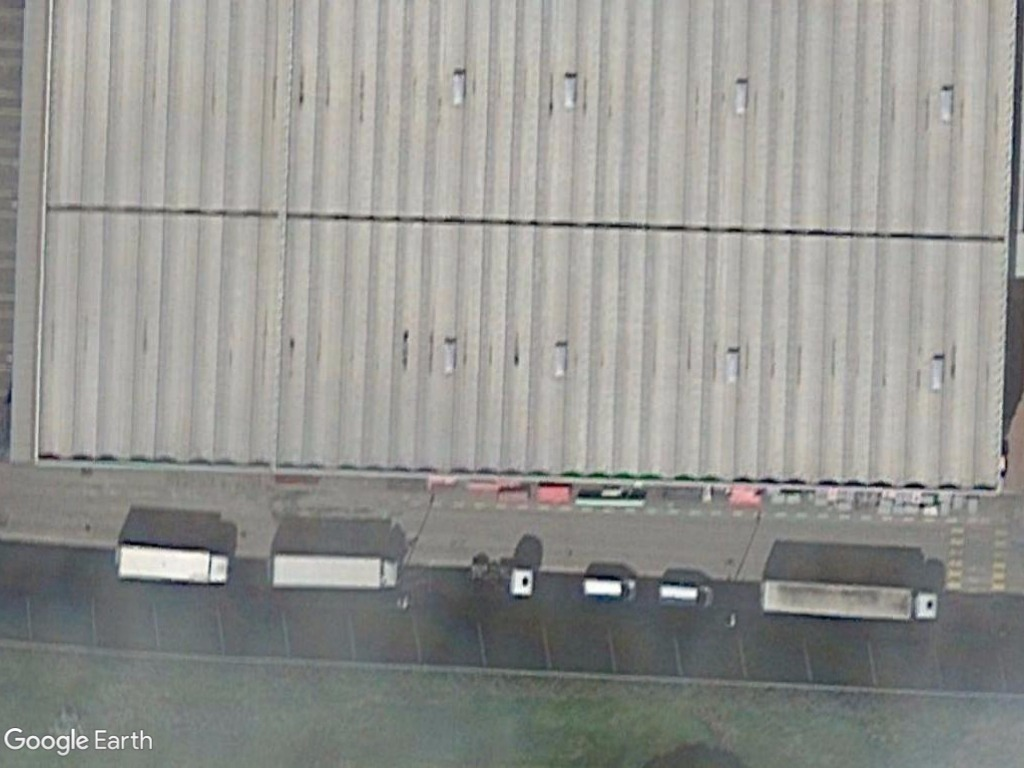longvehicle: (755, 576, 943, 629), (264, 548, 403, 594)
truck: (113, 539, 235, 587)
